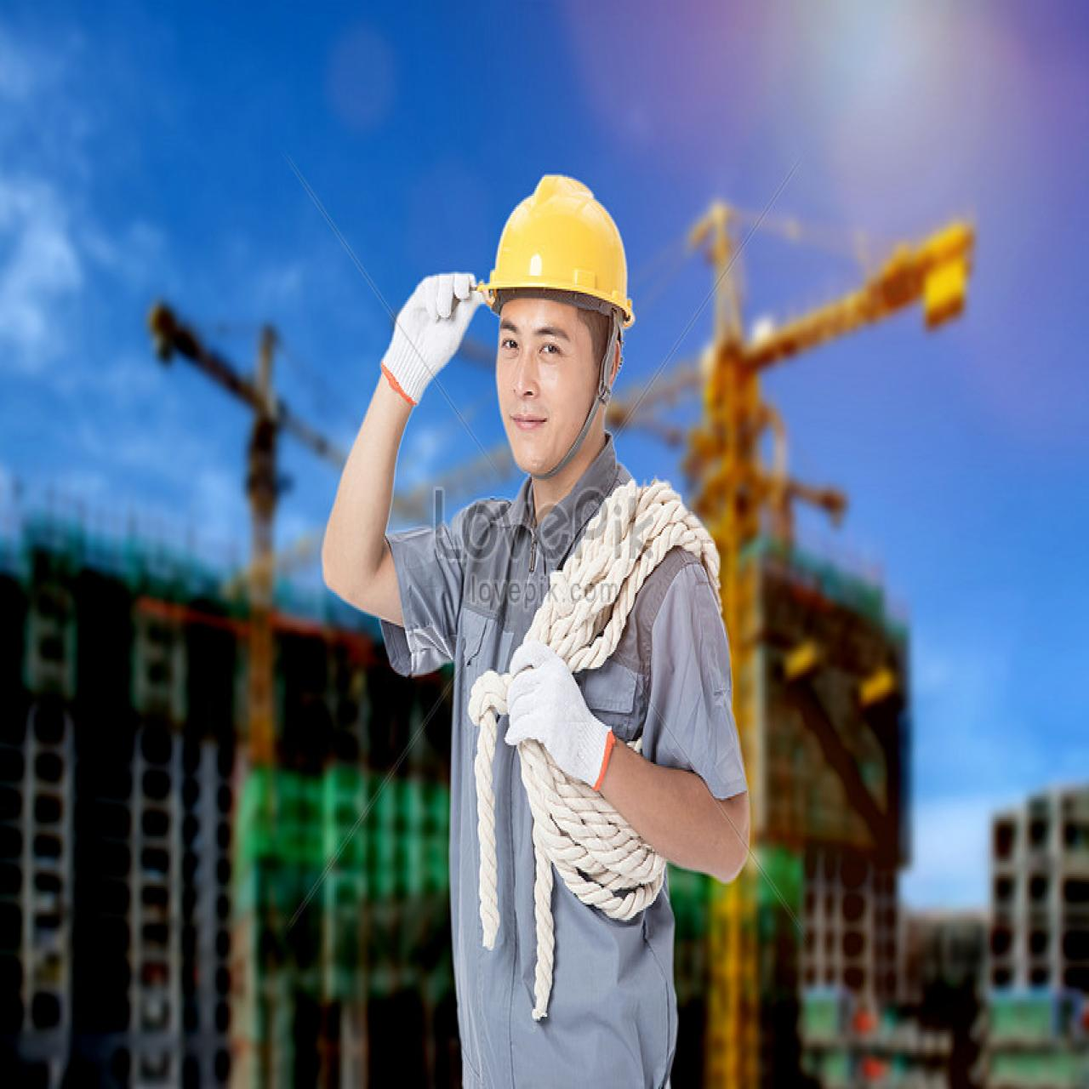NO_Safety_Vest: (443, 514, 678, 1017)
Person: (310, 162, 776, 1089)
